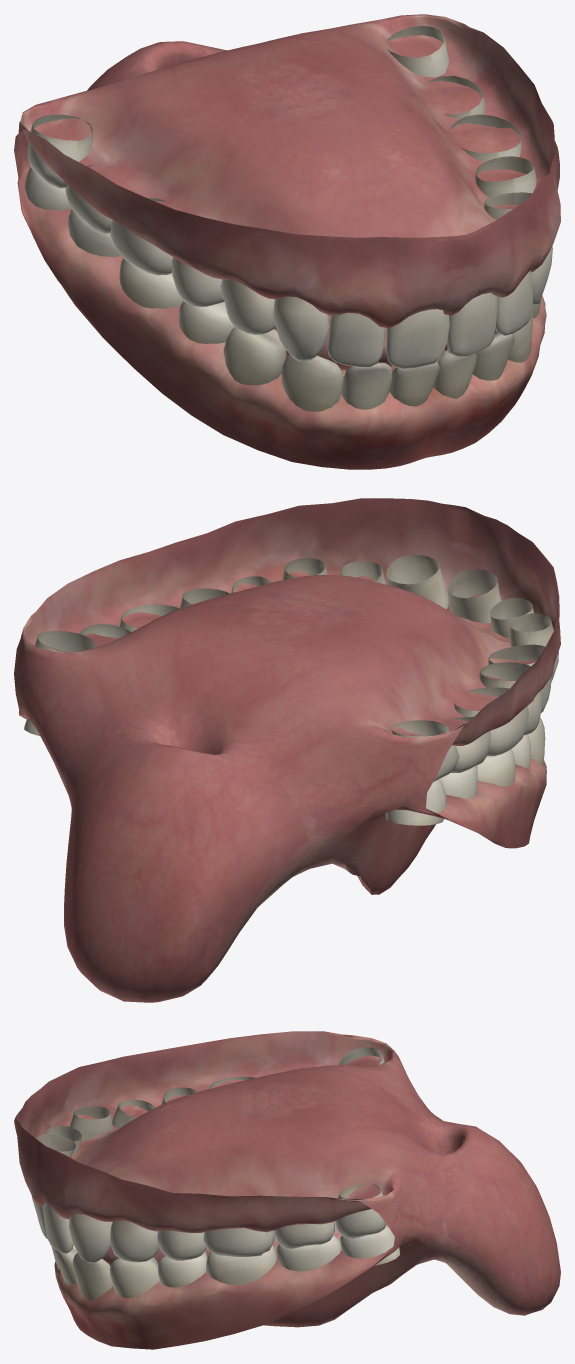
Rendered from human_teeth.glb.
The picture shows the model from 3 angles, top to bottom: view 1: azimuth 30°, elevation 25°; view 2: azimuth 150°, elevation 25°; view 3: azimuth 270°, elevation 25°; orthographic projection. The views are drawn at different scales.
Parts seen in each view (by area): view 1: Gums, Teeth; view 2: Gums, Teeth; view 3: Gums, Teeth.
Part boxes in pixels (bbox=[...]): Gums: bbox=[14, 14, 560, 469]; Teeth: bbox=[25, 26, 552, 411]; Gums: bbox=[14, 498, 560, 1002]; Teeth: bbox=[24, 554, 558, 825]; Gums: bbox=[14, 1031, 560, 1349]; Teeth: bbox=[31, 1047, 399, 1300].
Size of the model in its own units: 0.0875 by 0.0525 by 0.1222.
2 materials, 2 textured.
